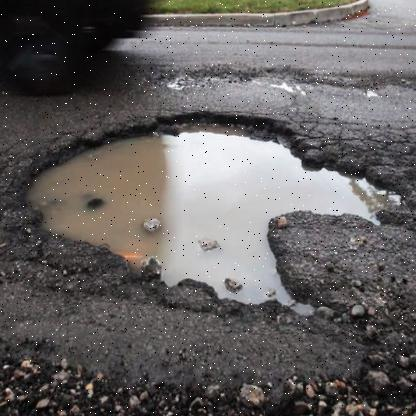pothole_water: (7, 83, 406, 331)
